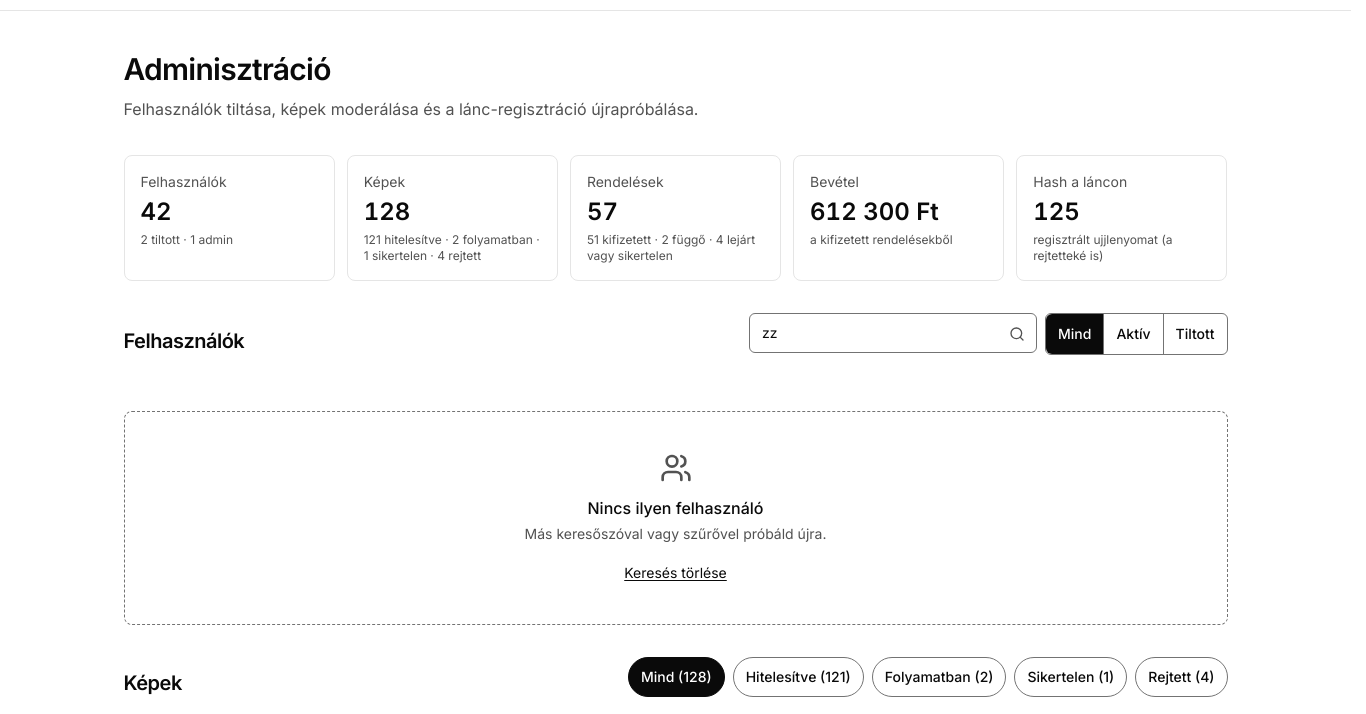
Scenario: AdminPage – nézet az URL-ben › ha mindkét lista üres, a szűrő váltása után a fókusz a saját szakasz üres állapotának címére kerül
The width and height of the screenshot is (1366, 714).
expect the text "Nincs ilyen felhasználó" is shown: met, box [588,496,764,520]
Click the button "Rejtett (4)". click: [1181, 677]
box: [1135,657,1228,697]
(page scrolled)
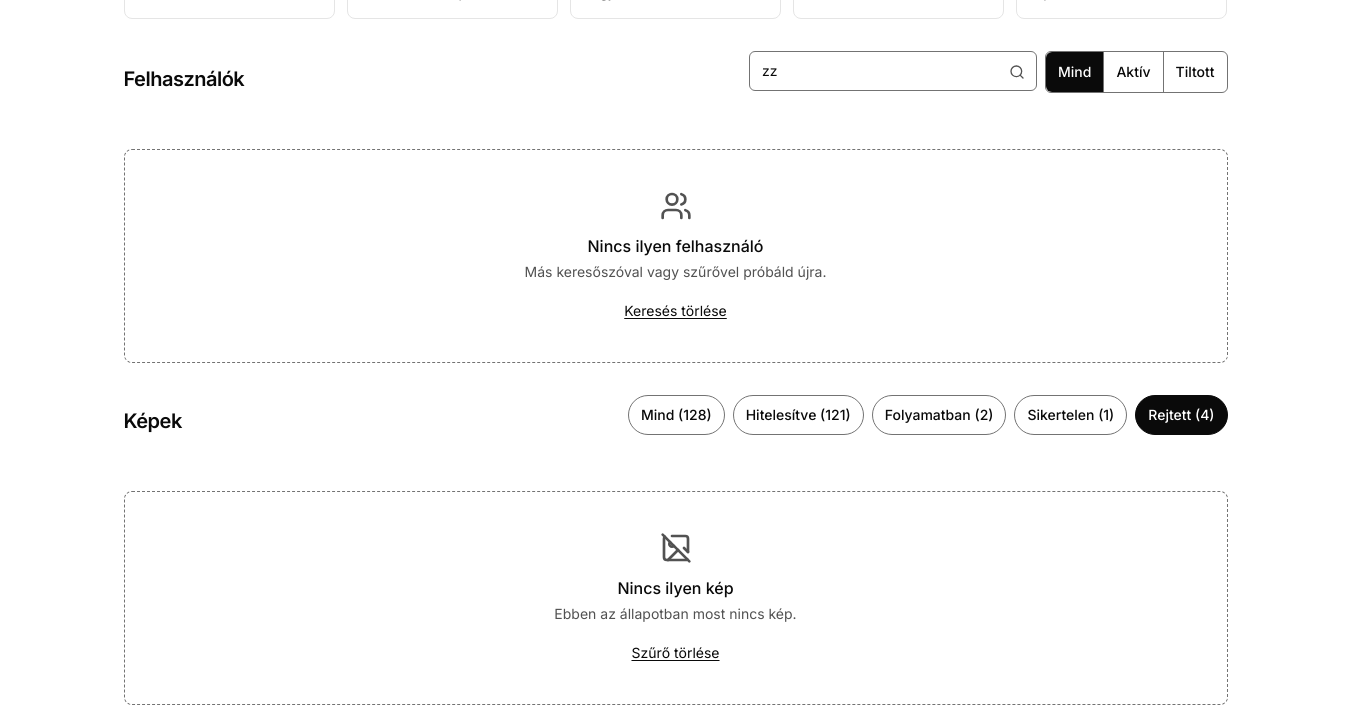
expect the text "Nincs ilyen kép" is shown: met, box [617,576,734,600]
